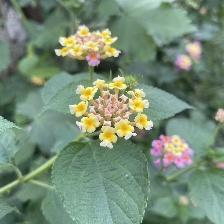common lanthana: (71, 76, 156, 149)
